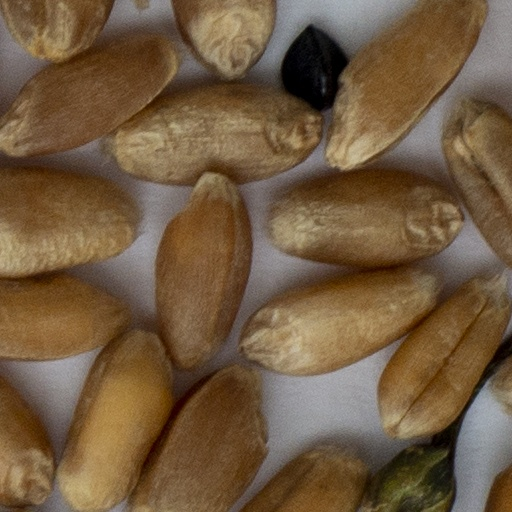Fallopia-Convolvulus-poly: (283, 28, 338, 108)
